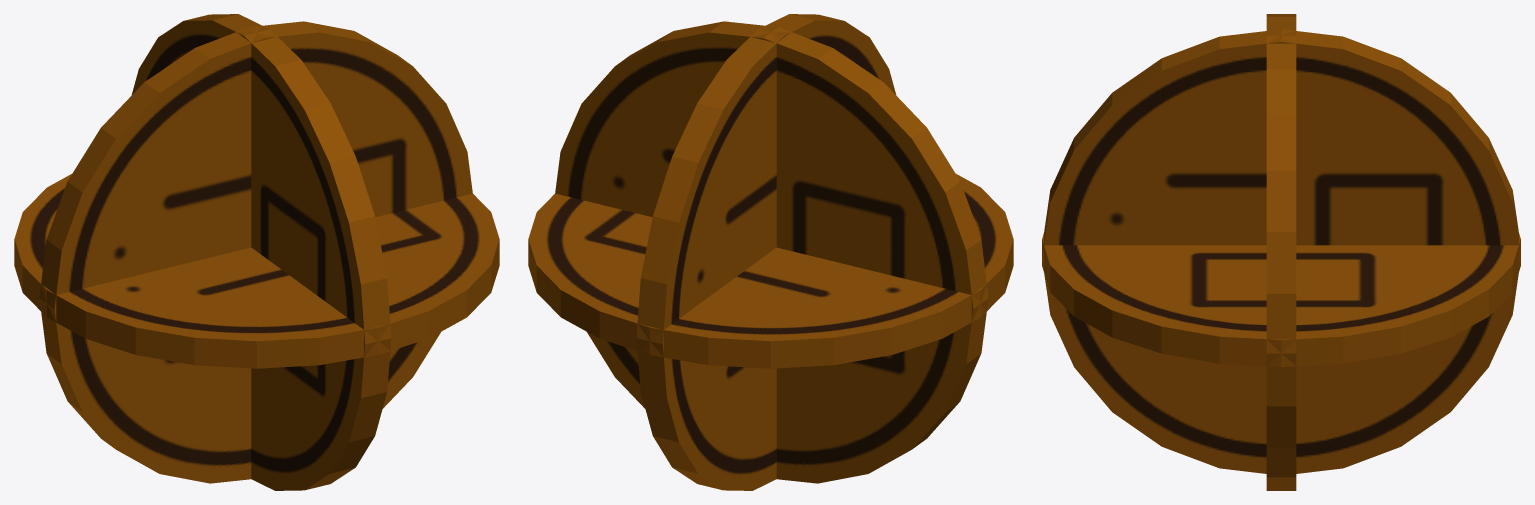
Rendered from clock30.obj.
3 renders of one model, left to right at view 1: azimuth 30°, elevation 25°; view 2: azimuth 150°, elevation 25°; view 3: azimuth 270°, elevation 25°, orthographic.
Visible parts, largest first — view 1: entity0_brush0, entity0_brush1, entity0_brush2; view 2: entity0_brush0, entity0_brush1, entity0_brush2; view 3: entity0_brush1, entity0_brush2, entity0_brush0.
Part boxes in pixels (x1,y1,x2,y2): entity0_brush0: (39,21,472,483); entity0_brush1: (131,14,391,490); entity0_brush2: (14,174,499,368); entity0_brush0: (555,21,988,483); entity0_brush1: (636,14,896,490); entity0_brush2: (528,174,1013,368); entity0_brush1: (1042,29,1520,473); entity0_brush2: (1042,233,1520,367); entity0_brush0: (1266,14,1296,490).
Size of the model in its own units: 19.2 by 19.2 by 19.2.
